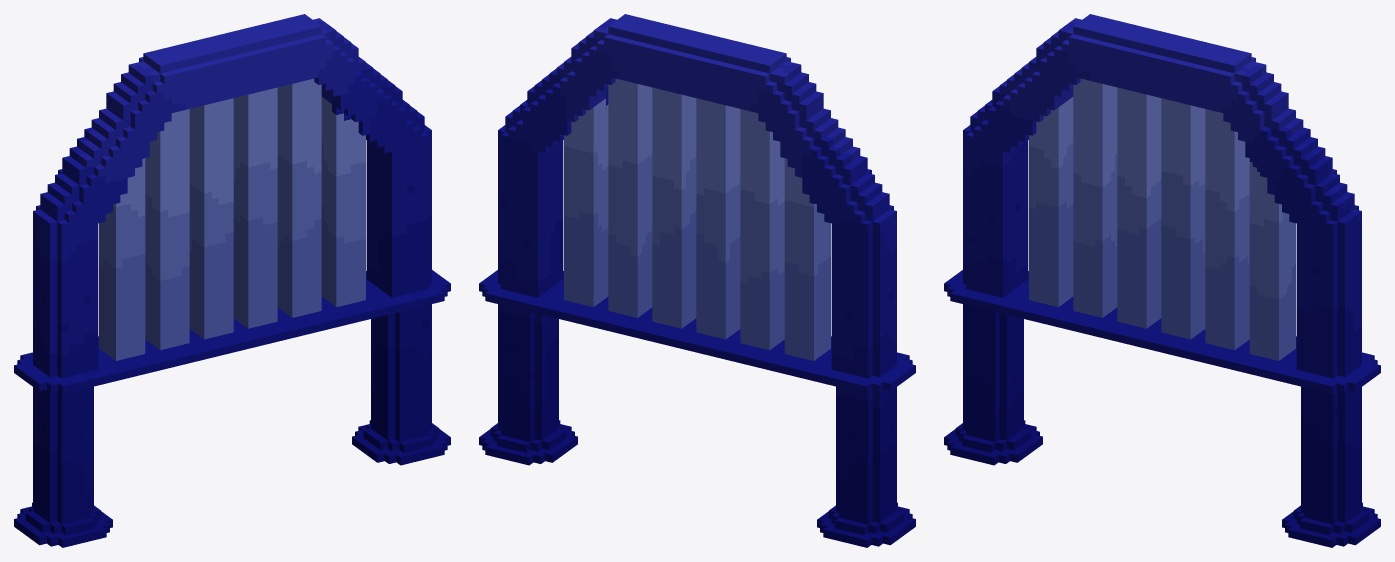
The model's file is door_4.glb.
3 renders of one model, left to right at view 1: azimuth 30°, elevation 25°; view 2: azimuth 150°, elevation 25°; view 3: azimuth 330°, elevation 25°, orthographic.
Parts seen in each view (by area): view 1: door4; view 2: door4; view 3: door4.
Part boxes in pixels (<box>): door4: <box>14,14,450,547</box>; door4: <box>479,14,915,547</box>; door4: <box>944,14,1380,547</box>.
Size of the model in its own units: 5.6 by 5.8 by 1.
1 material, 1 textured.
